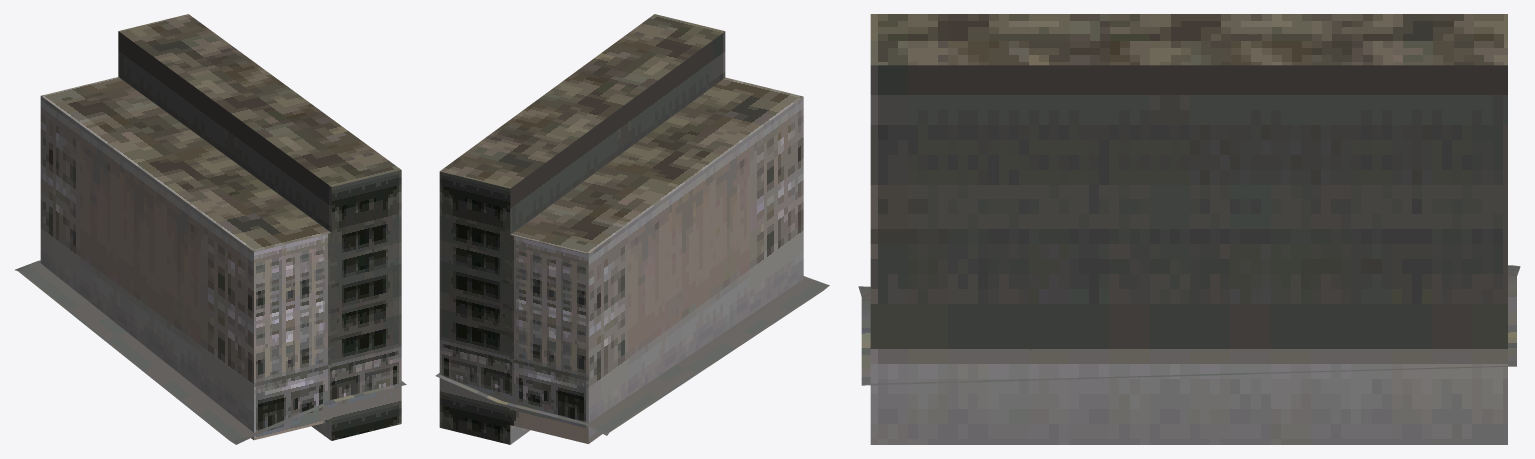
Rendered from lodpsf_4_sfe2.obj.
3 renders of one model, left to right at view 1: azimuth 30°, elevation 25°; view 2: azimuth 150°, elevation 25°; view 3: azimuth 270°, elevation 25°, orthographic. The views are drawn at different scales.
Visible parts, largest first — view 1: LODpsf_4_sfe2; view 2: LODpsf_4_sfe2; view 3: LODpsf_4_sfe2.
Part boxes in pixels (x1=…): LODpsf_4_sfe2: x1=15, y1=14, x2=406, y2=444; LODpsf_4_sfe2: x1=435, y1=14, x2=829, y2=444; LODpsf_4_sfe2: x1=858, y1=14, x2=1520, y2=444.
Bounding box in the file's own units: 45.64 × 64.2 × 101.
Materials: 4 (4 with a texture image).
